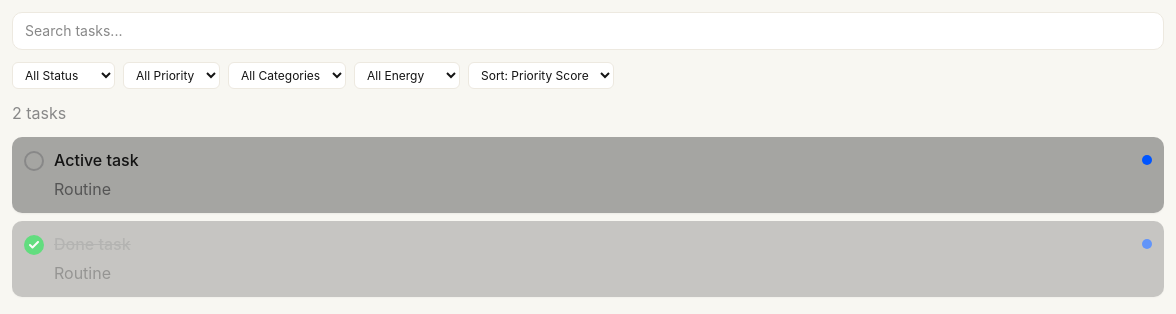
Test case: AllTasksView › filters by status
Select "Done" in the 1st dropdown at (64, 76), box [12, 62, 115, 89]
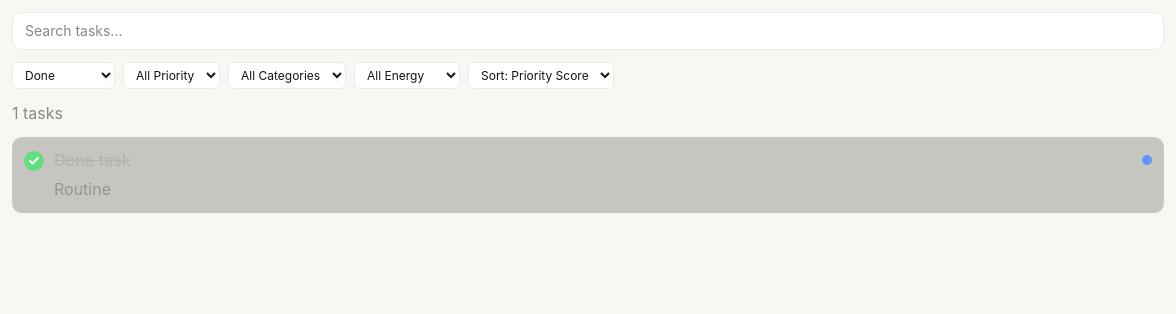
Expected: the text "Active task" is gone
